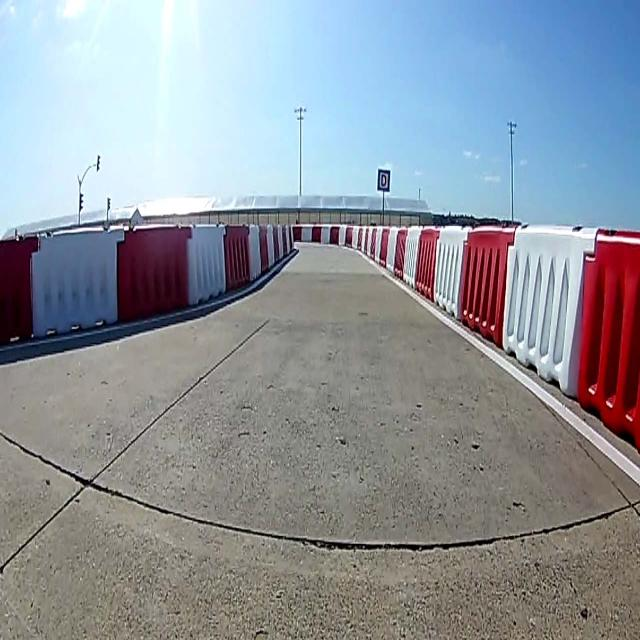durak: (377, 167, 391, 193)
